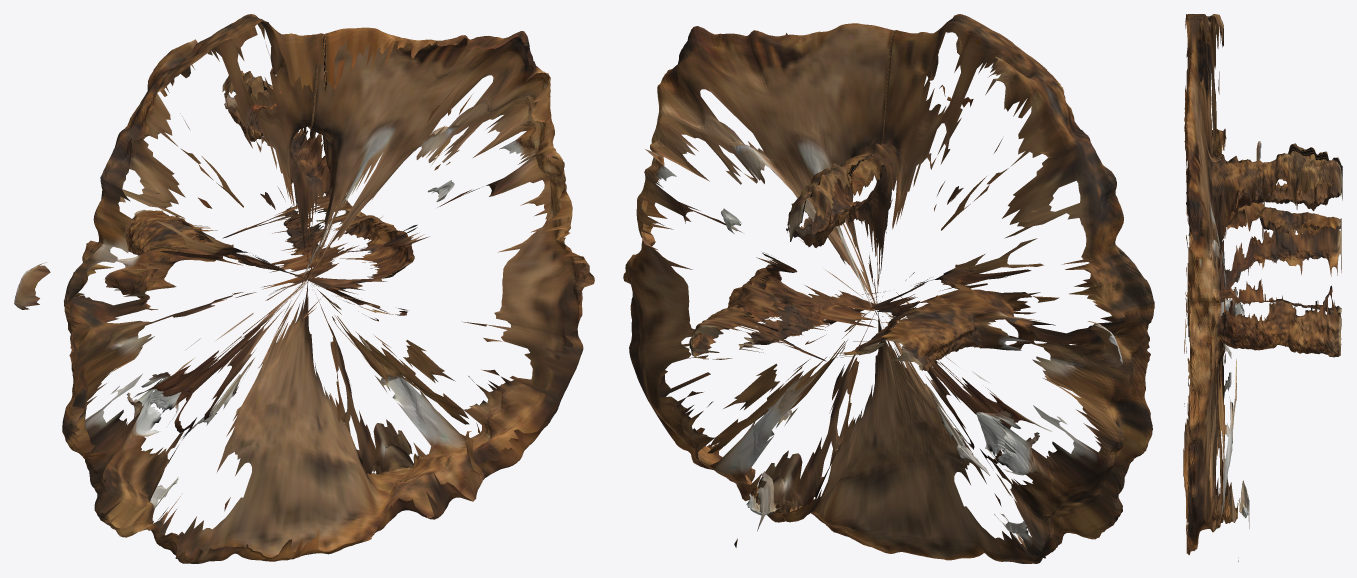
3 renders of one model, left to right at view 1: azimuth 30°, elevation 25°; view 2: azimuth 150°, elevation 25°; view 3: azimuth 270°, elevation 25°, orthographic. The views are drawn at different scales.
Visible parts, largest first — view 1: geometry_0; view 2: geometry_0; view 3: geometry_0.
Boxes of the visible parts, x1,y1,x2,y2 form: geometry_0: (14,14,594,563); geometry_0: (623,14,1154,563); geometry_0: (1183,14,1342,561).
Size of the model in its own units: 1.88 by 1.85 by 0.5753.
Materials: 1 (1 with a texture image).
